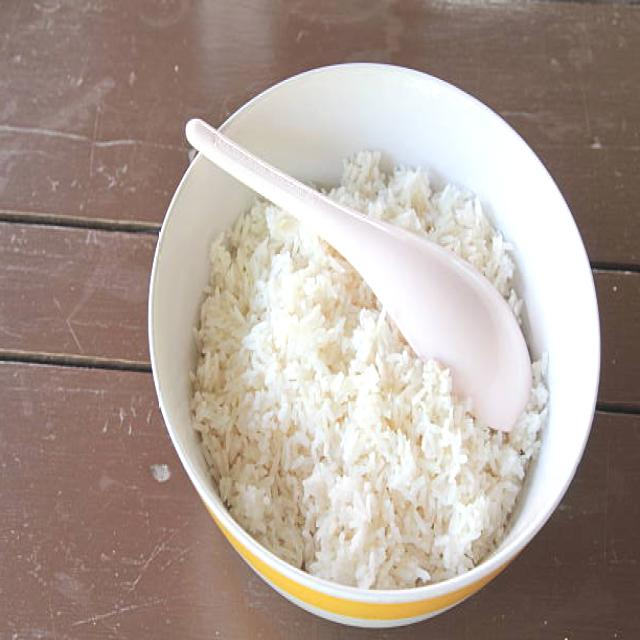Rice: (188, 147, 548, 590)
